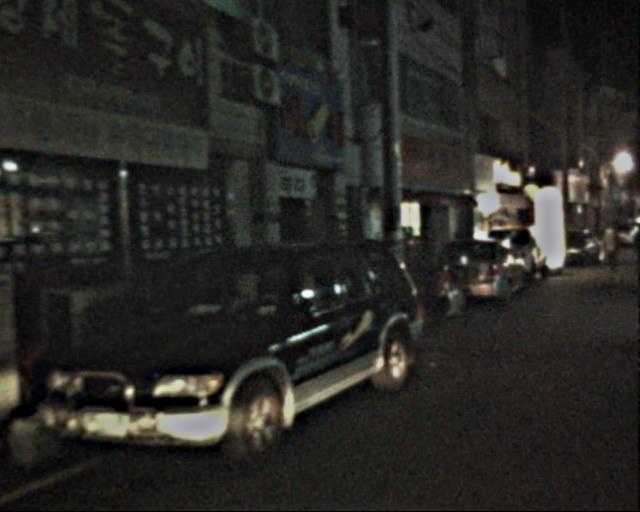person: (601, 224, 629, 272)
